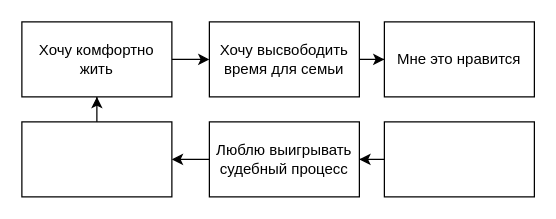
Image size: 556x219. Some labels were removed from this diagram. The centre of each missing label's shape, as x and y in pixels:
Люблю получать гонорар: the point at 96,159
Я юрист: the point at 458,159
